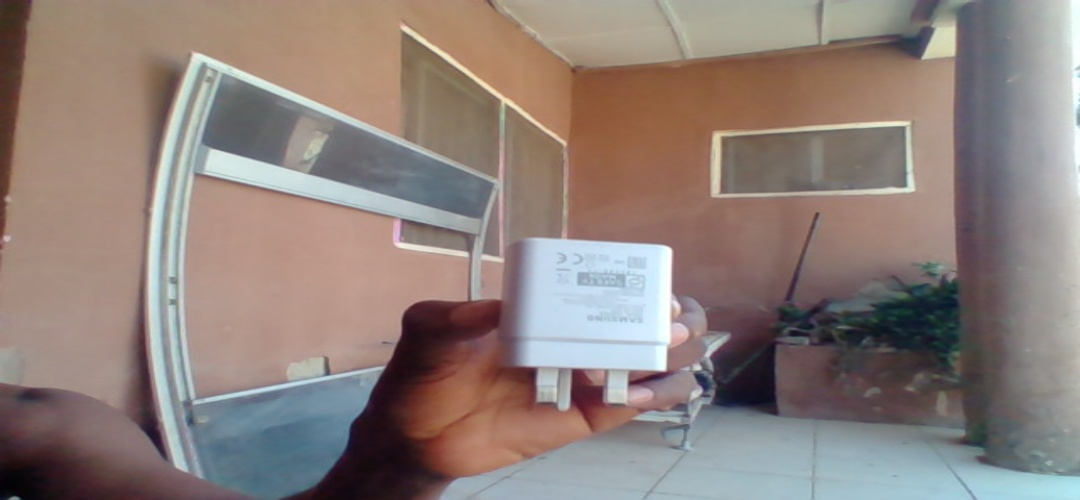phone_charger: (504, 241, 676, 411)
